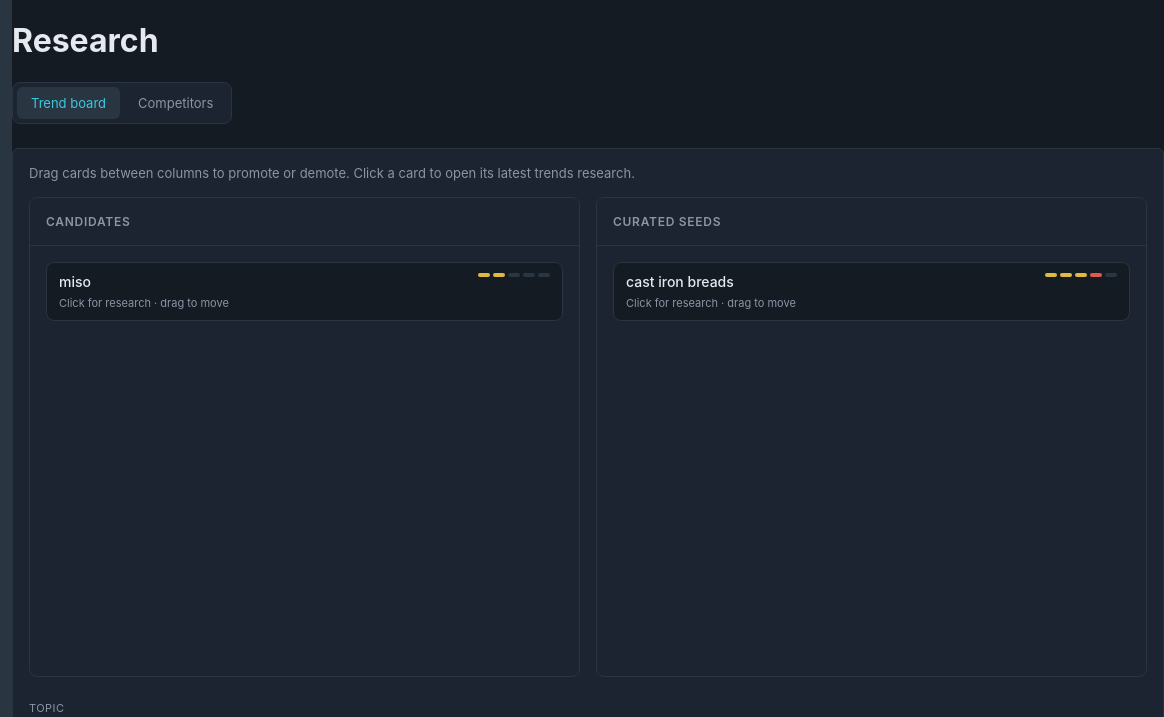
Research › switches to the competitors overview with radar, threat-sorted chips, and collapsed sources
Click the tab "Competitors" at (176, 103), box [124,87,227,119]
(page scrolled)
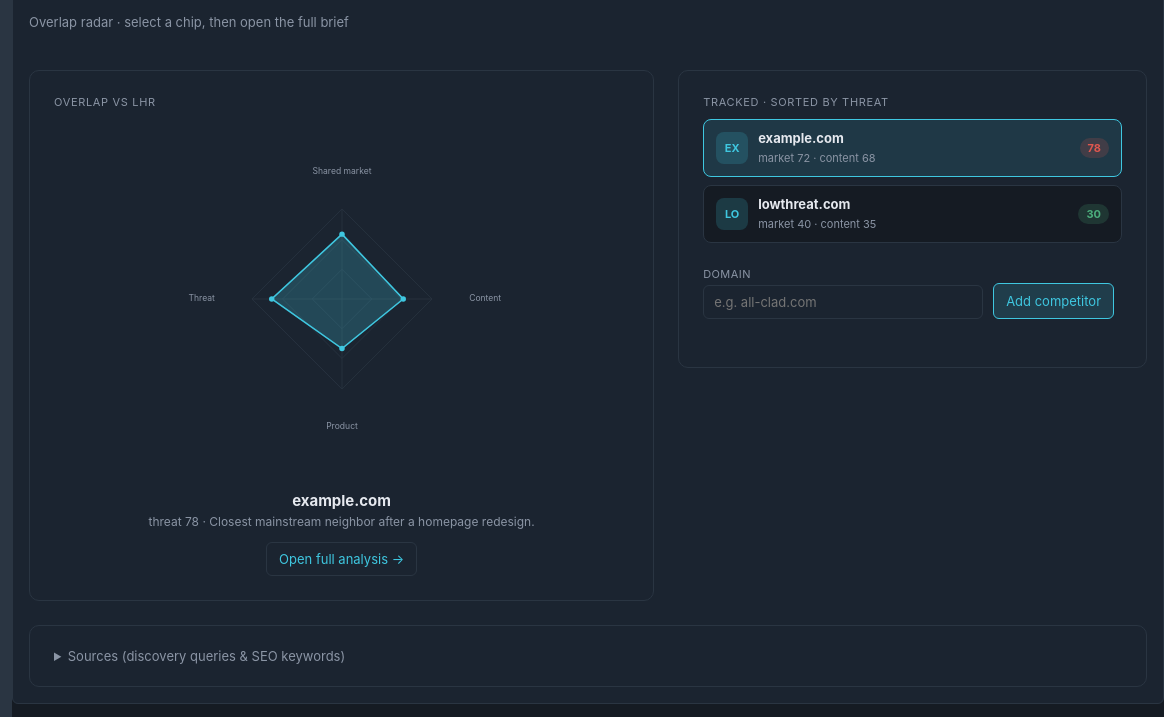
Expected: the picture named "Overlap radar for example.com" is shown, [162,119,522,479]
Expected: the text "Sources (discovery queries & SEO keywords)" is shown, [29,626,1147,688]
Click the heading "Sources (discovery queries & SEO keywords)" at (206, 656), box [68,648,345,664]
(page scrolled)
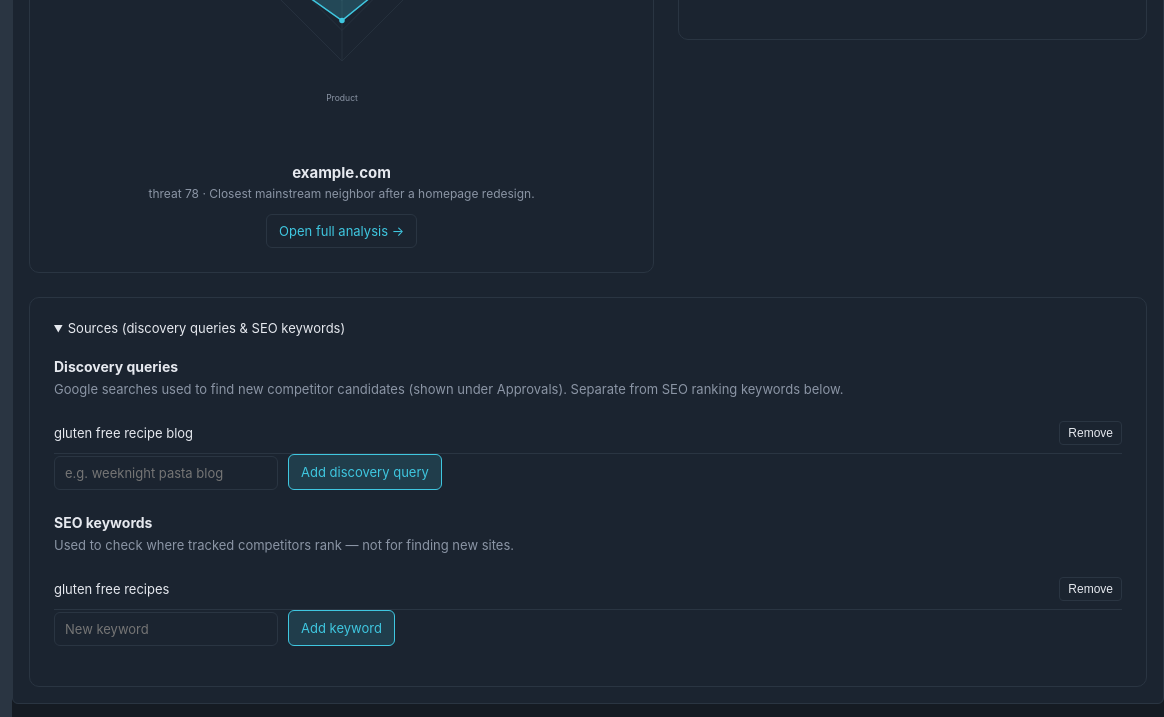
Expected: the text "gluten free recipes" is shown, [54,582,169,598]
Expected: the text "gluten free recipe blog" is shown, [54,426,193,442]
